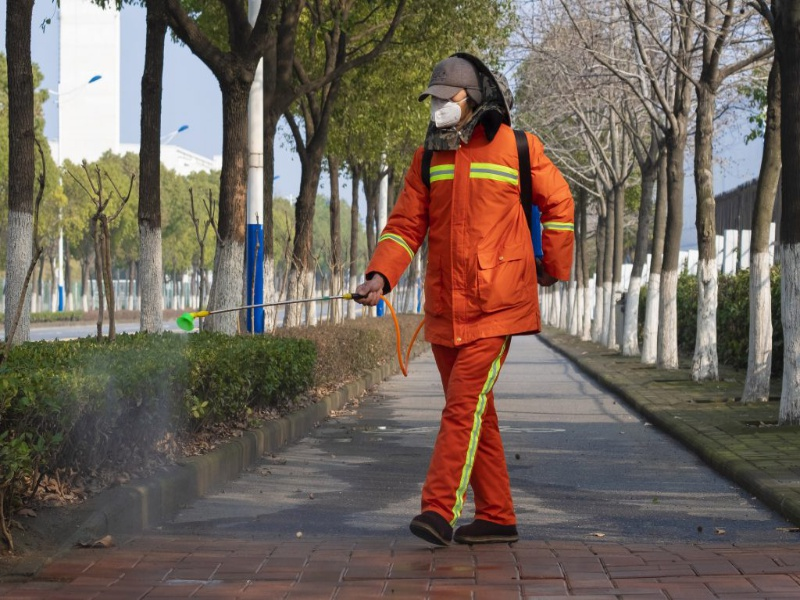ManaoArotava: (416, 64, 484, 150)
